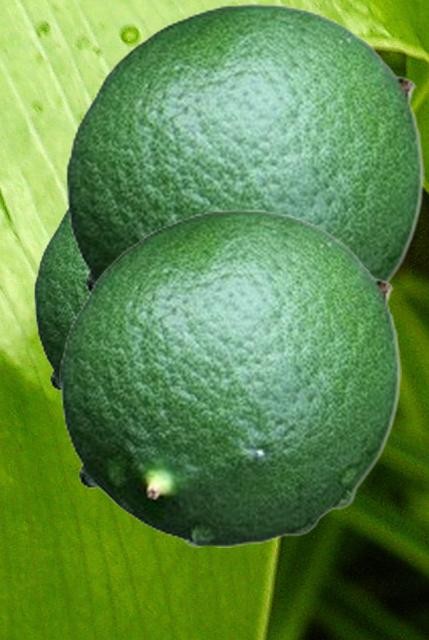calamansi: (59, 208, 400, 546), (65, 2, 423, 294), (33, 205, 87, 394)
